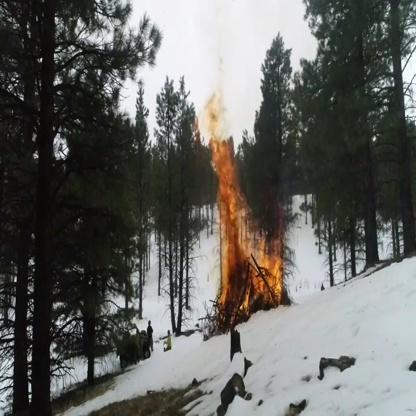Fire: (192, 87, 288, 331)
